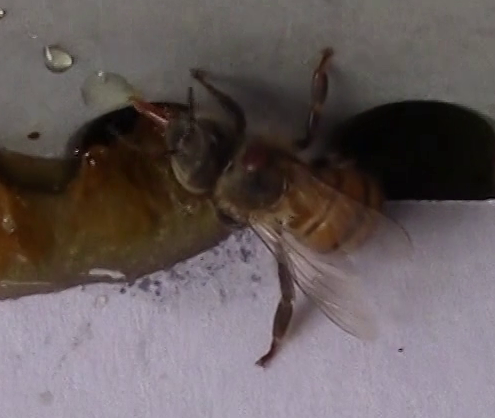Varroa destructor: (241, 143, 269, 174)
